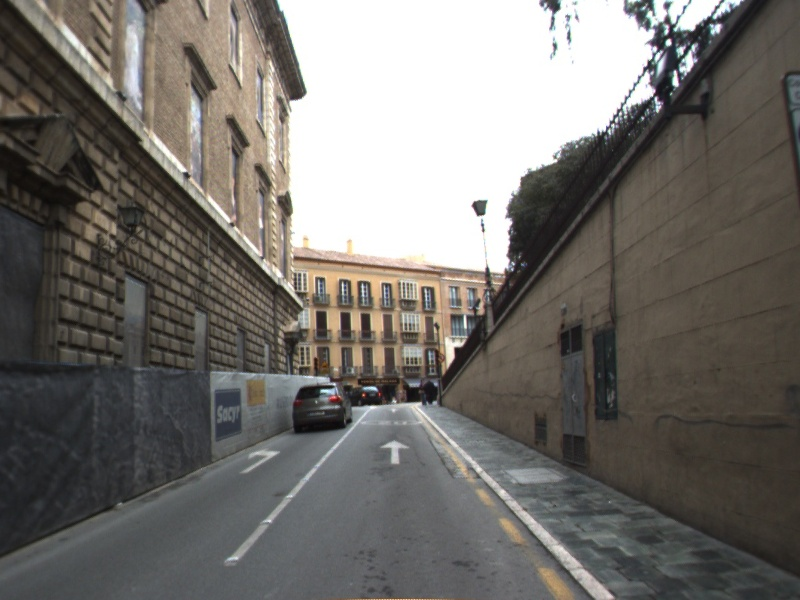LEFT: (237, 446, 282, 475)
STRAIGHT: (378, 438, 412, 466)
